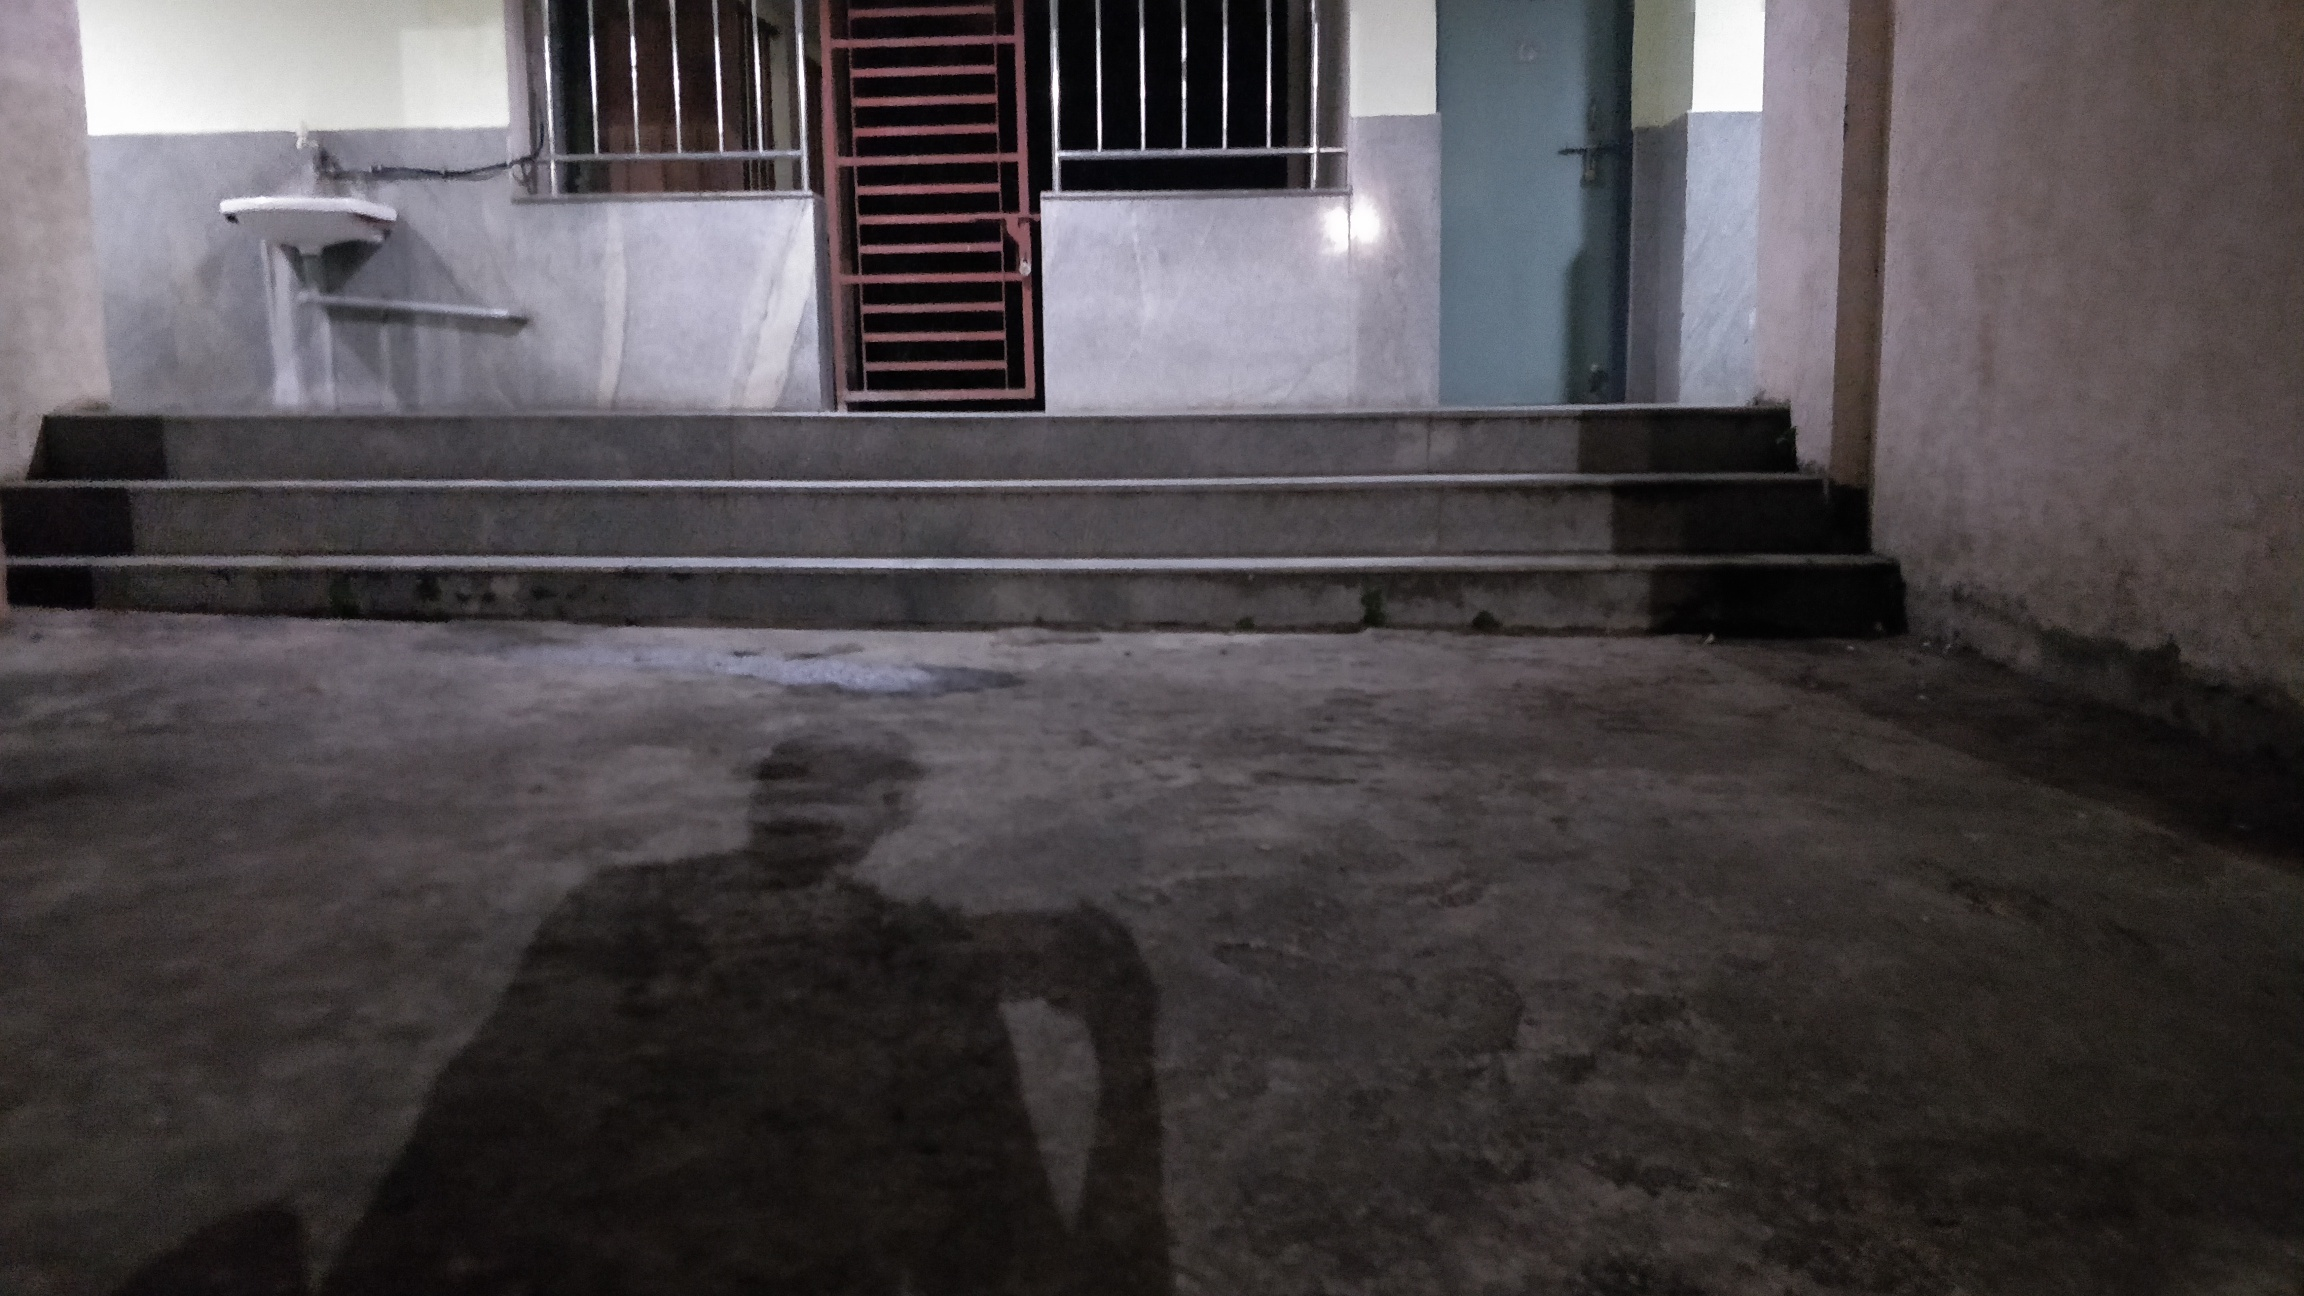stairs_up: (17, 399, 1894, 676)
